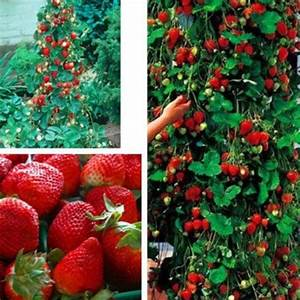Fresa: (45, 233, 112, 300), (45, 198, 108, 265), (1, 157, 65, 221), (81, 154, 129, 191)
